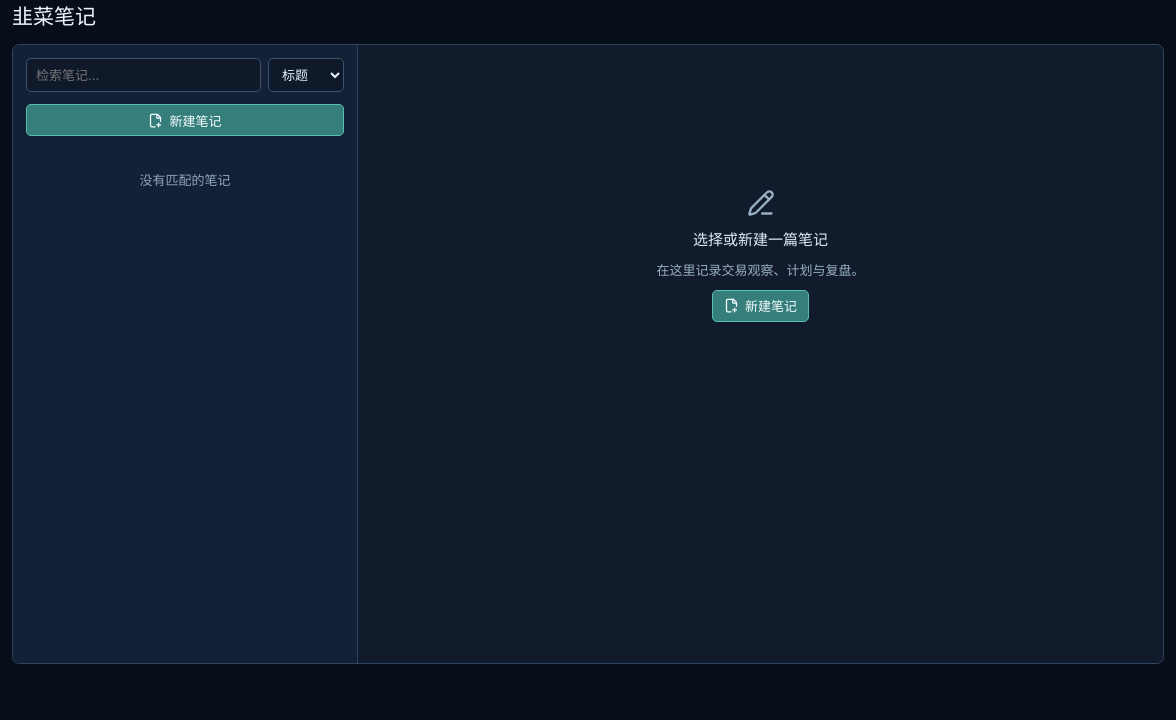
LeekNotesView › shows a useful error when the note API is unavailable
The width and height of the screenshot is (1176, 720).
Step 1. Click the 1st button "新建笔记" → coordinates (185, 120), box [26,104,344,136]
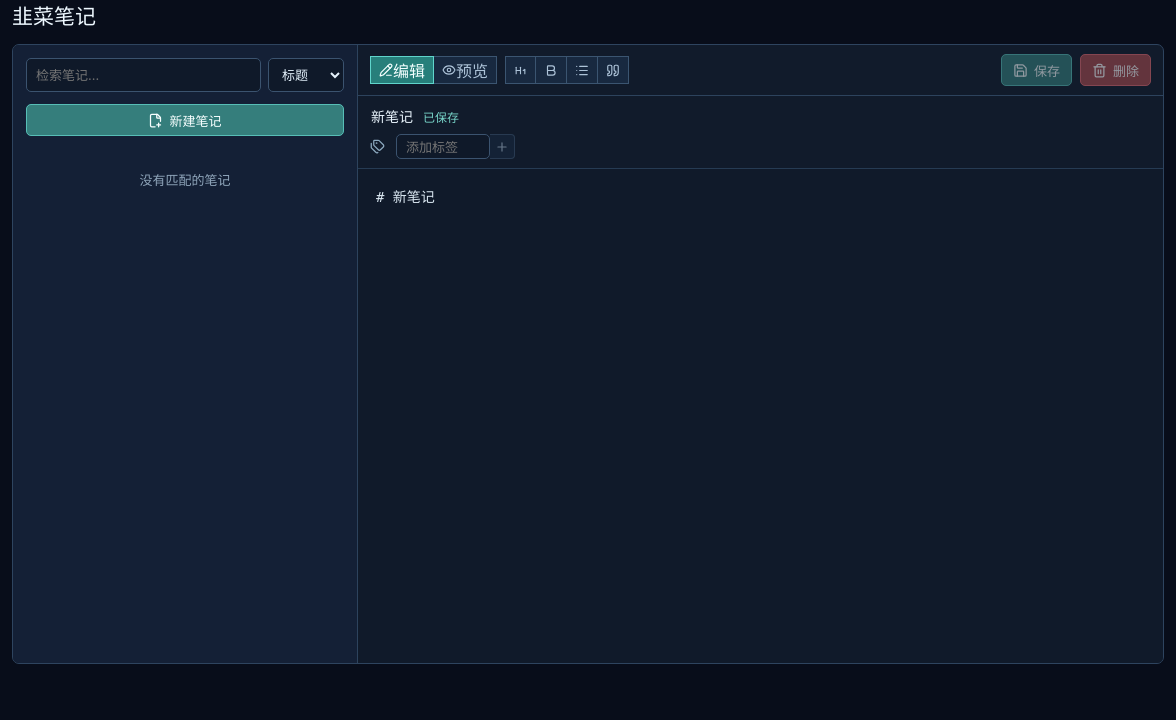
Step 2. Replace the text in the text box named "笔记内容" with "# 无法保存" → coordinates (760, 416), box [358,168,1163,663]
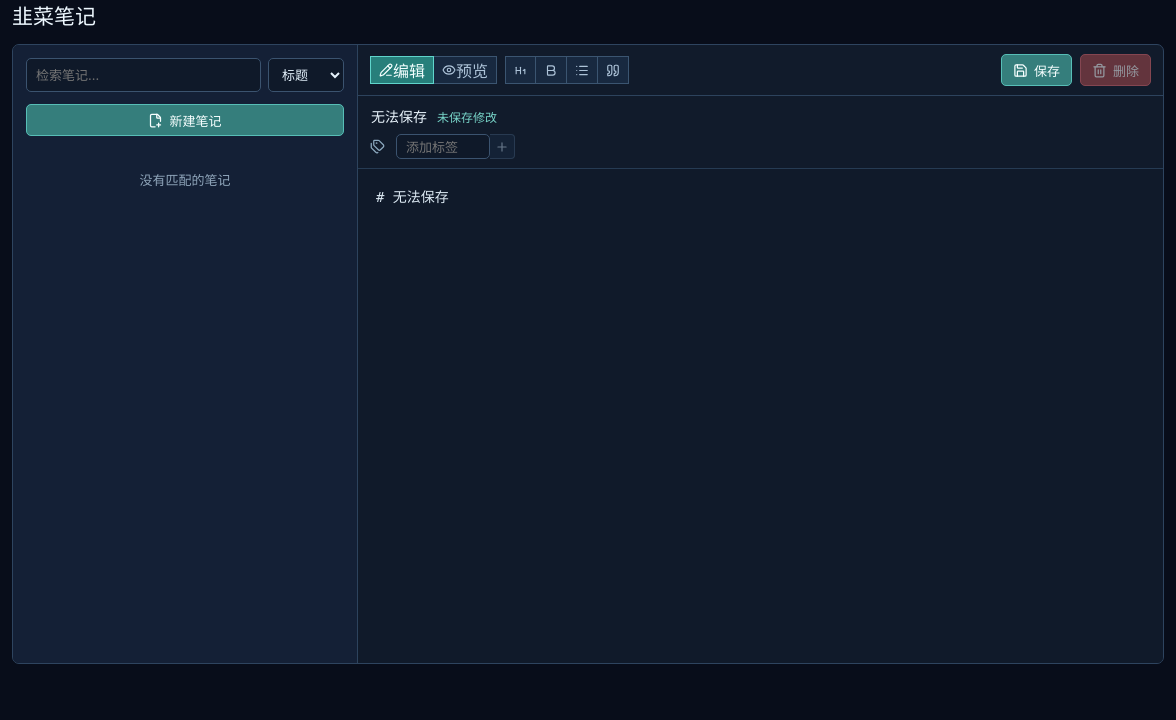
Step 3. Click the button "保存" → coordinates (1036, 70), box [1001,54,1072,86]
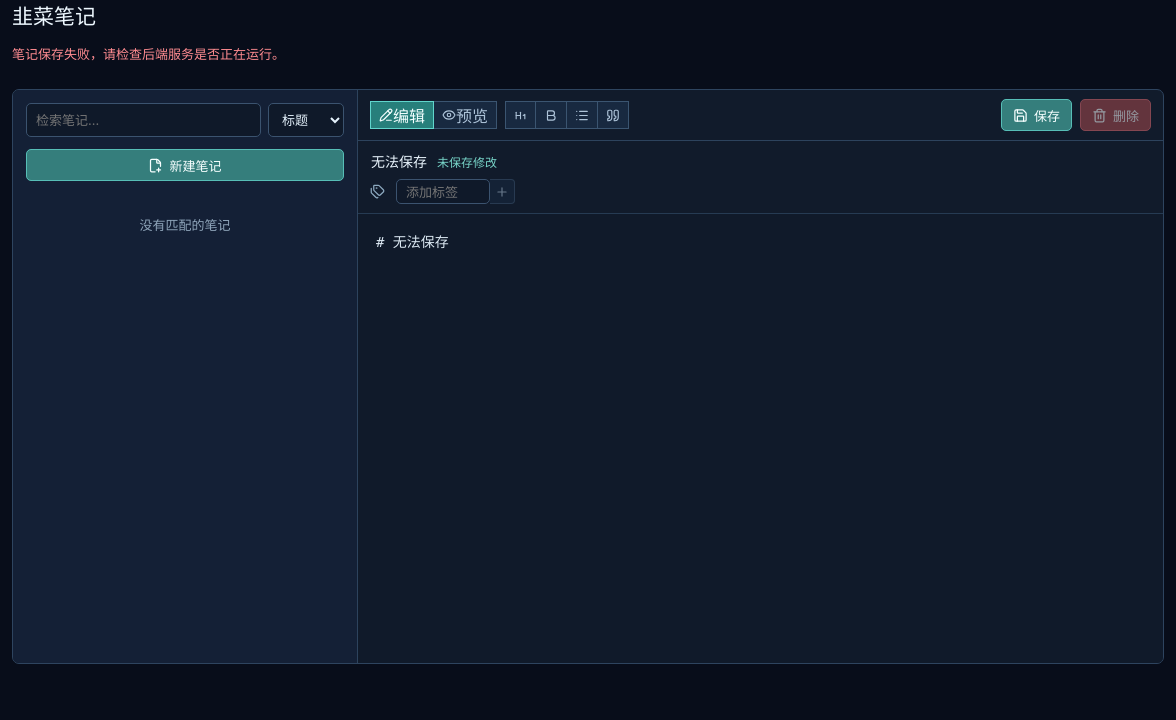
Check: the text "笔记保存失败，请检查后端服务是否正在运行。" is shown, box [12,46,285,62]
